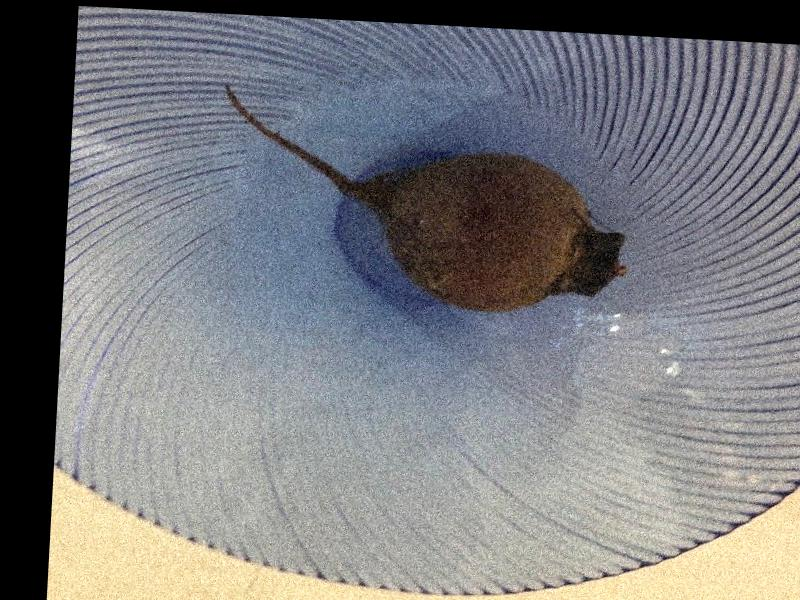Beet: (215, 86, 632, 316)
